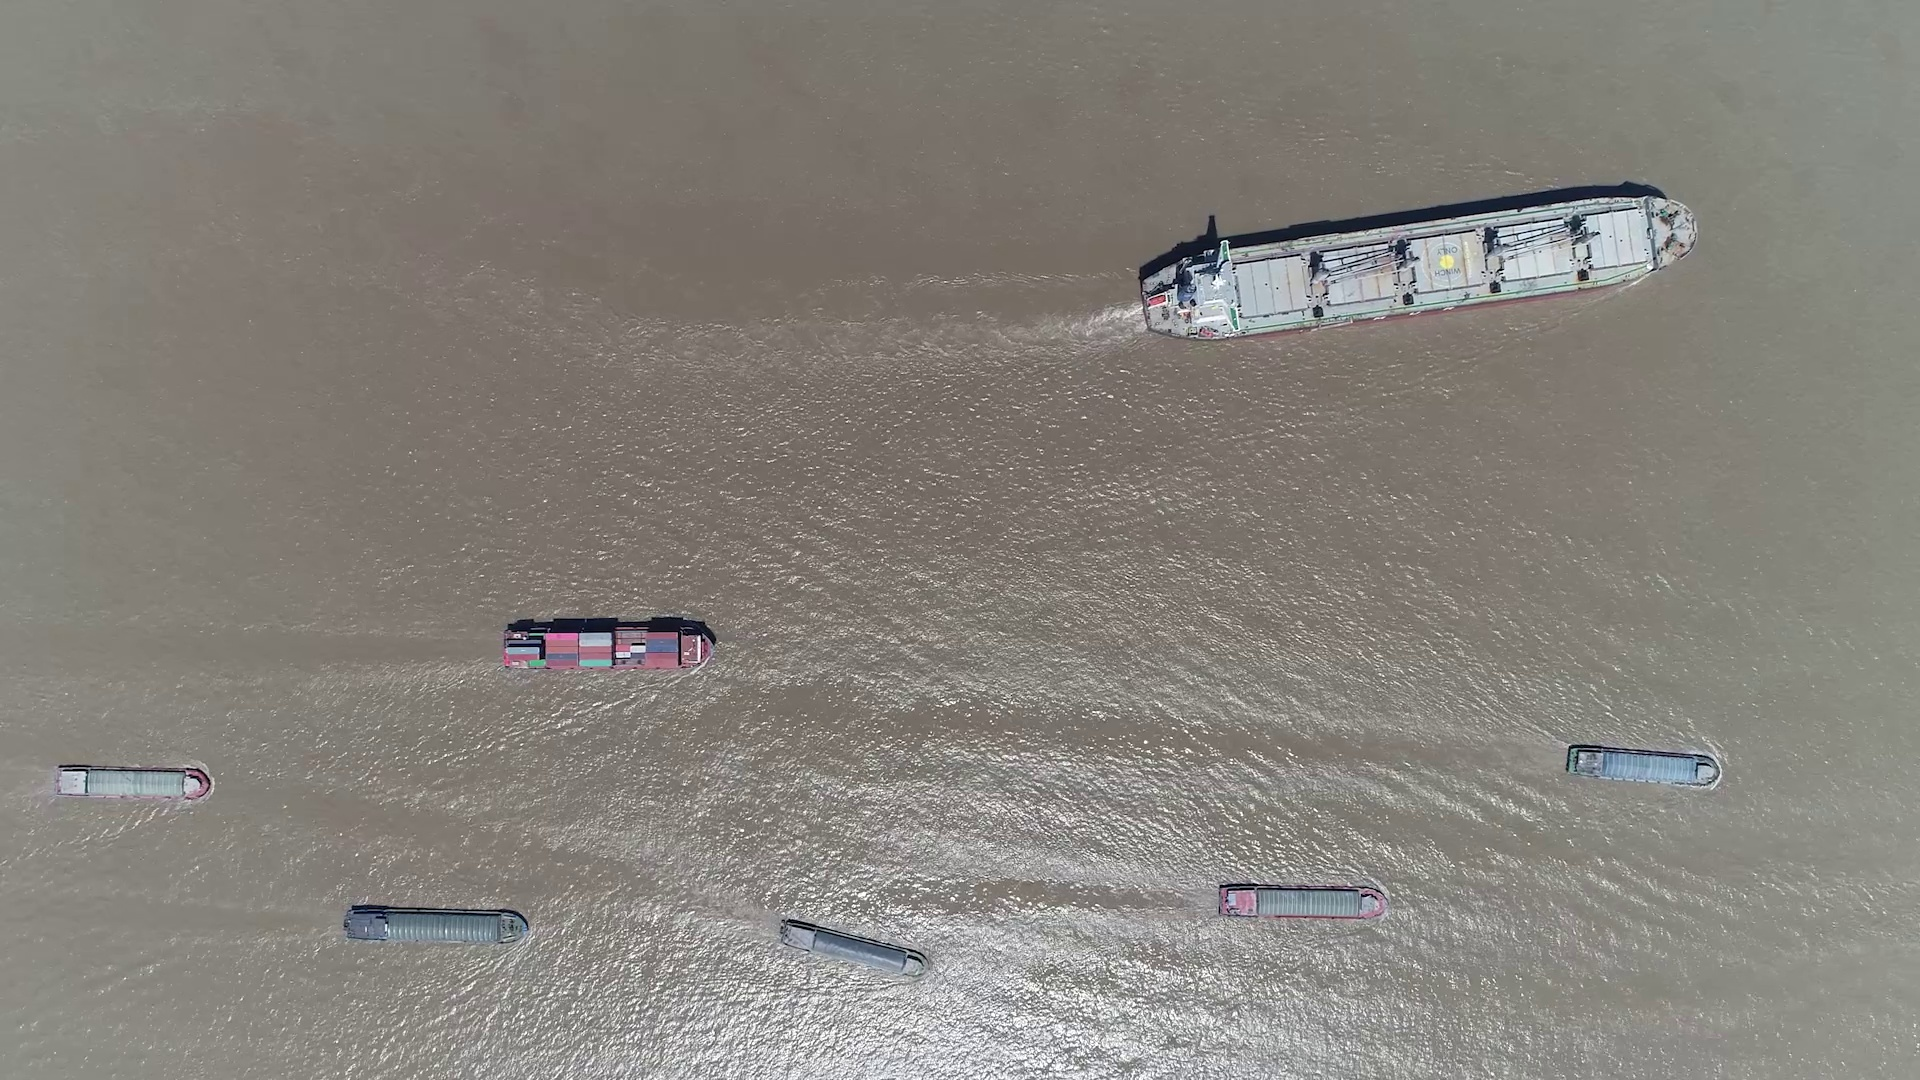ship: (1134, 194, 1697, 339), (501, 622, 715, 671), (777, 920, 926, 977), (345, 905, 527, 944), (1567, 742, 1720, 786), (1218, 884, 1386, 920), (54, 765, 210, 800)
